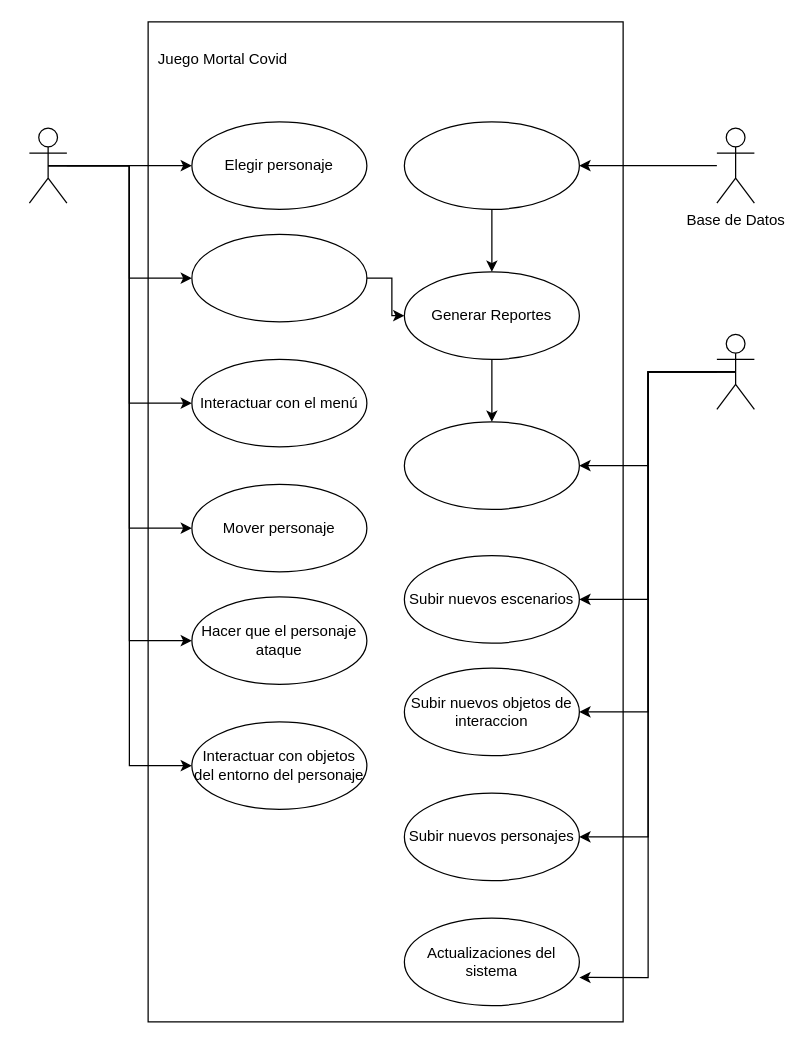
Image size: 806x1044. Some labels were removed from this diagram. Each missing label, with the centre of its shape:
"Jugador" goes at (47,165).
"Obtener información del juego" goes at (491,165).
"Obtener reportes de fallos" goes at (491,465).
"Reportar Bug" goes at (279,277).
"Soporte" goes at (735,371).
